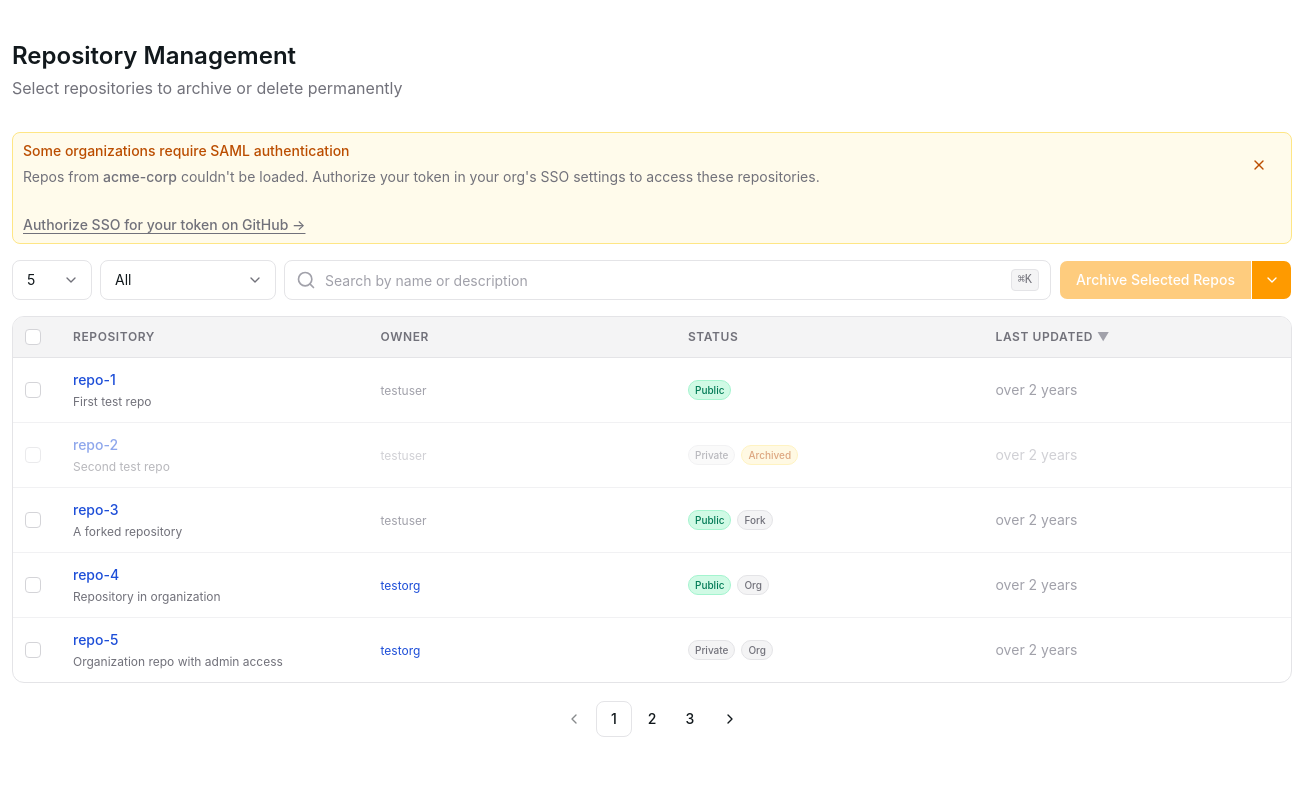
Scenario: Dashboard › dismisses SAML banner when X button is clicked
Expected: the text "Some organizations require SAML authentication" is shown, [23,142,350,159]
Click the button named "dismiss saml warning" at (1259, 165), box [1239,145,1279,185]
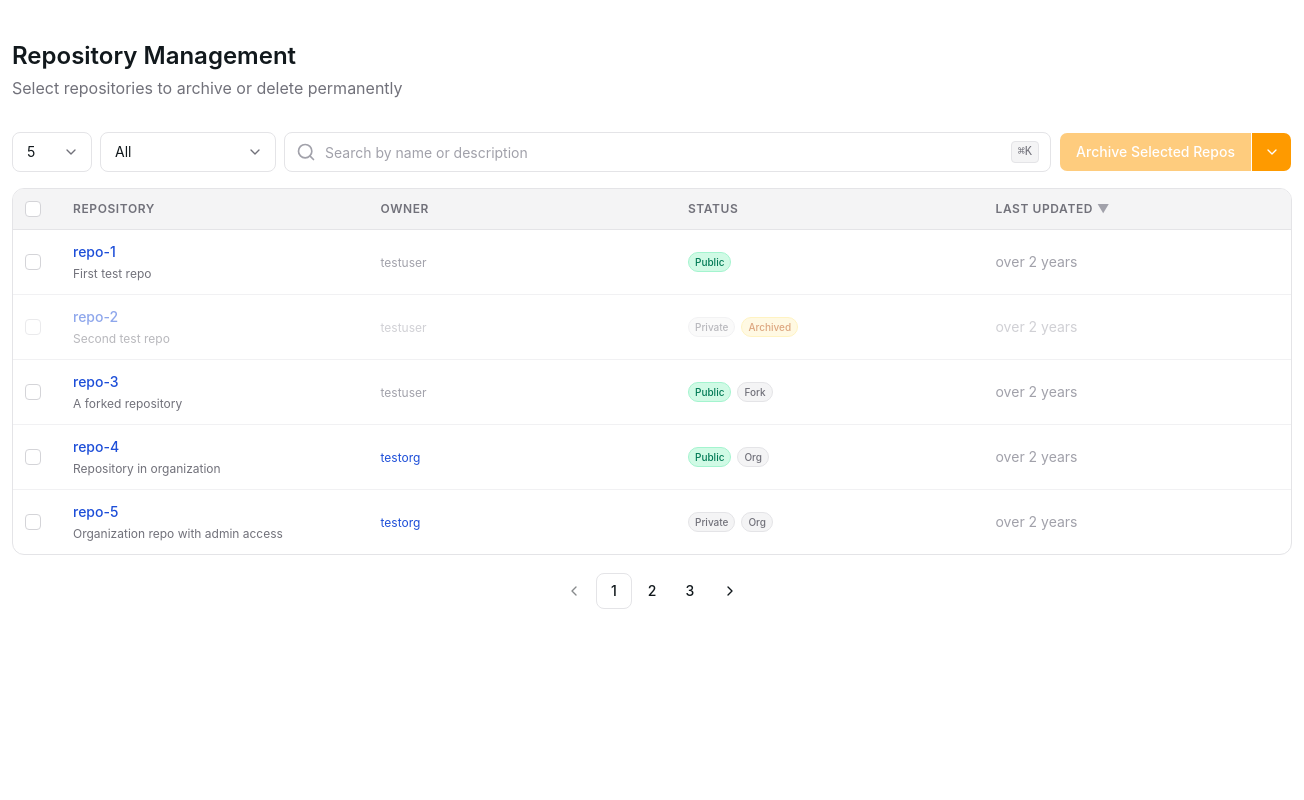
Now the text "Some organizations require SAML authentication" is gone
